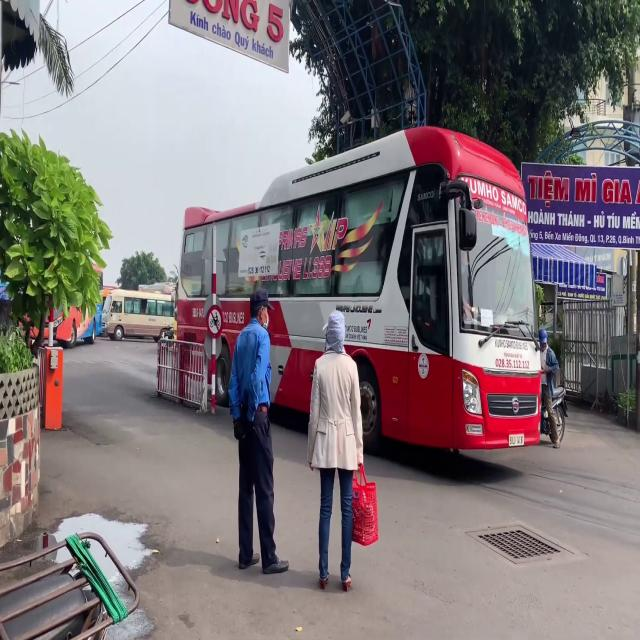bien_trang: (509, 434, 524, 446)
